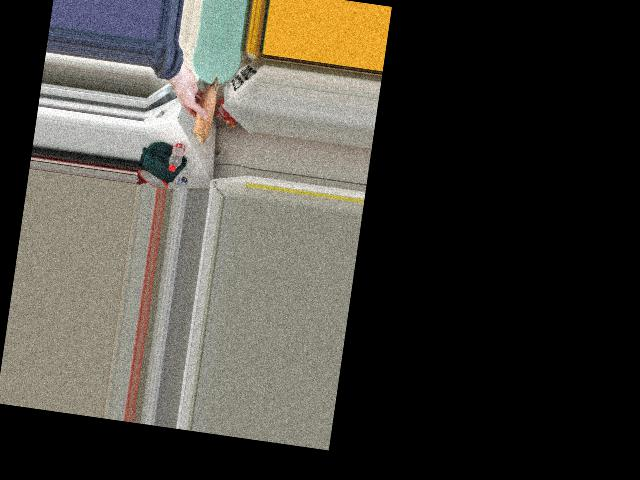sweet_potato: (189, 75, 219, 145)
